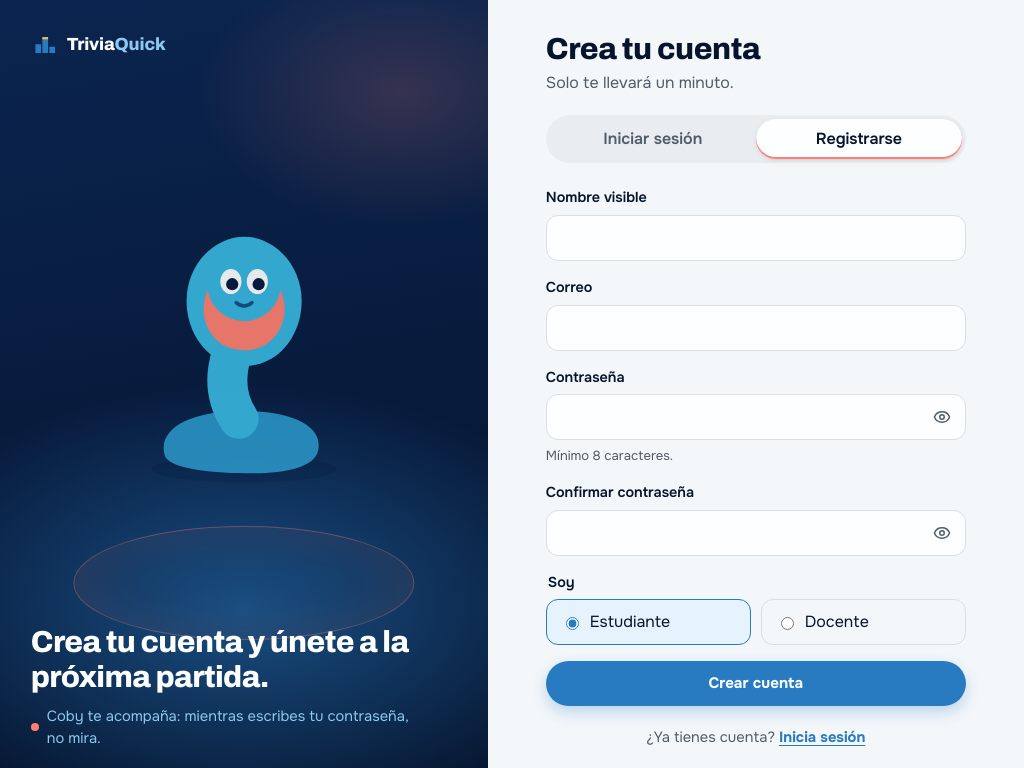
it: Registro con Coby › tiene una pose propia y celebra al terminar
This screenshot has width=1024, height=768.
Type "Ana" into the field labelled "Nombre visible" at (756, 238), box [546,215,966,261]
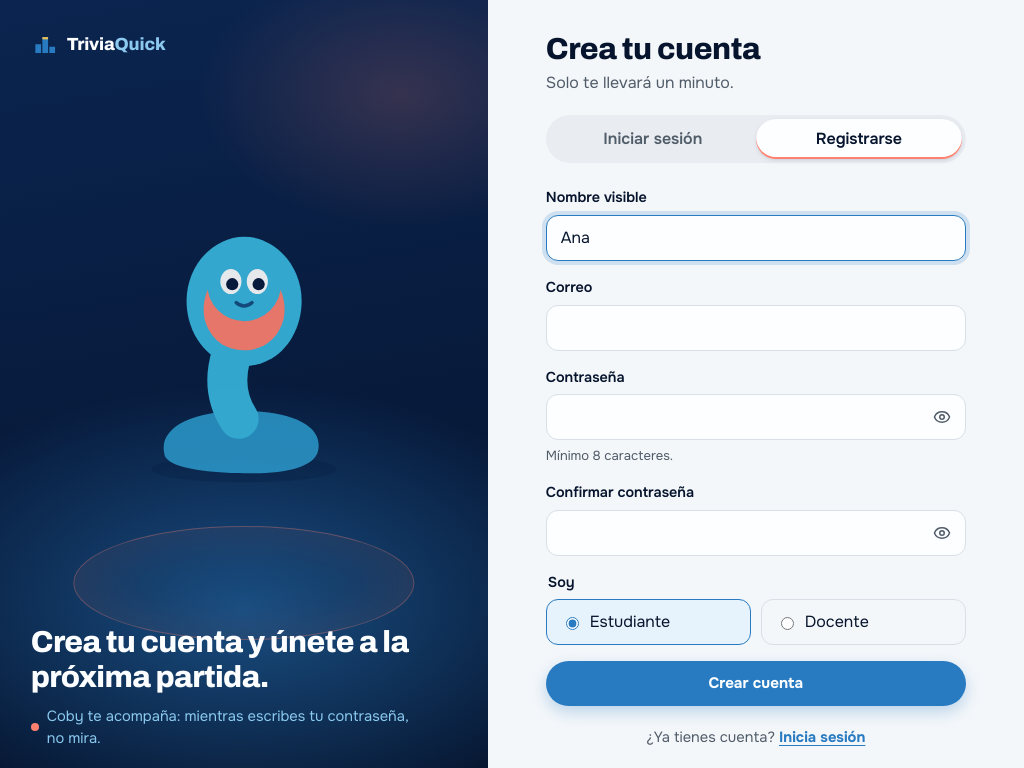
Type "a@b.com" into the field labelled "Correo" at (756, 328), box [546,305,966,351]
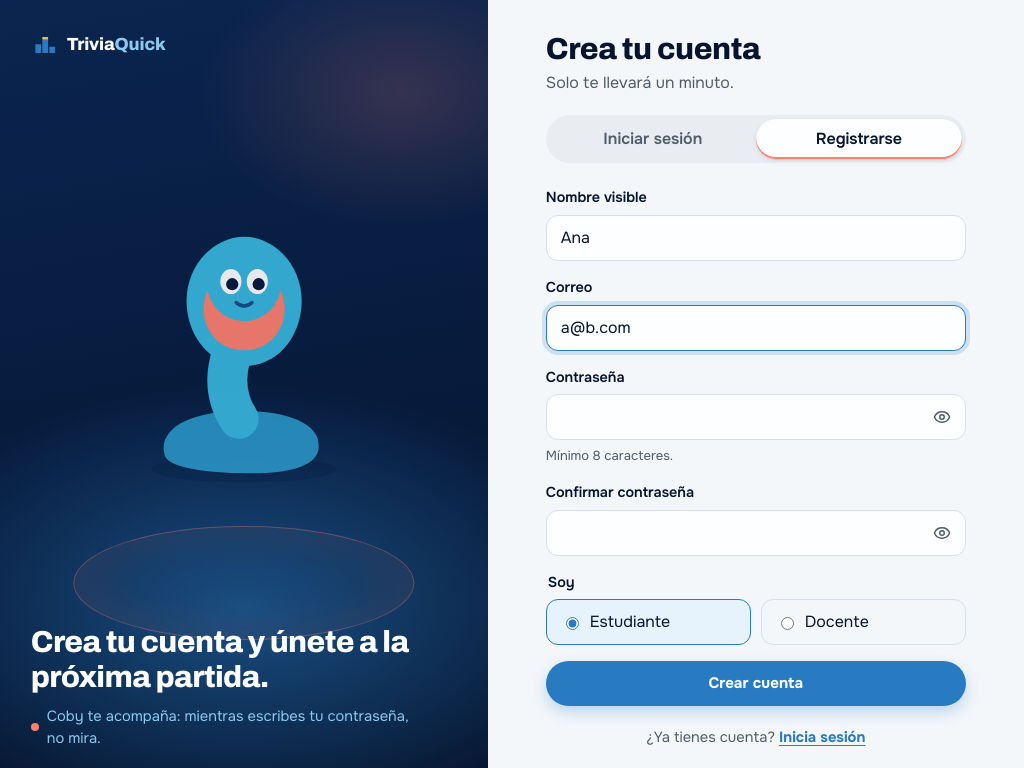
Type "contrasena1" into the password field labelled "Contraseña" at (756, 417), box [546,394,966,440]
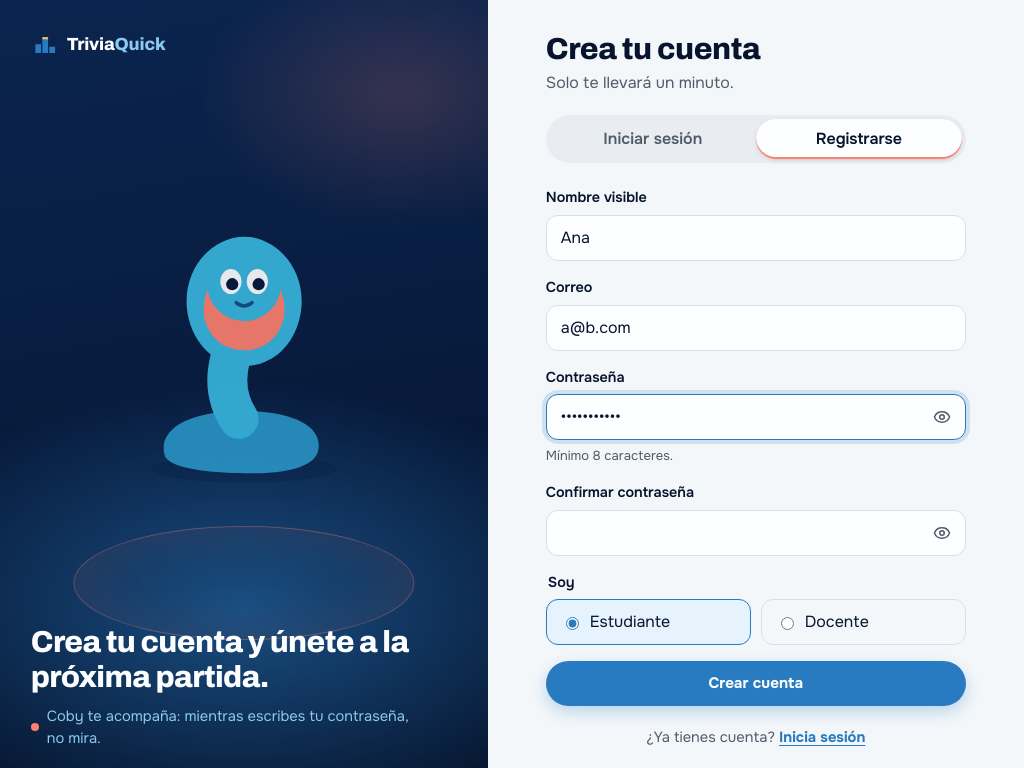
Type "contrasena1" into the password field labelled "Confirmar contraseña" at (756, 533), box [546,510,966,556]
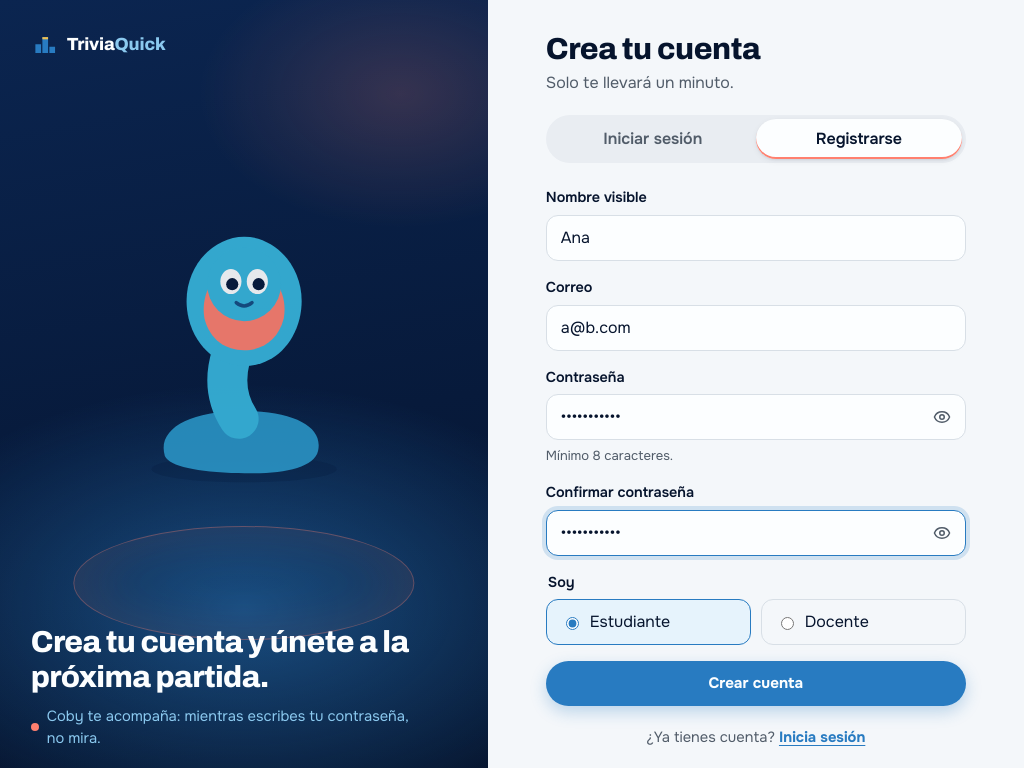
Click the button "Crear cuenta" at (756, 684), box [546,661,966,706]
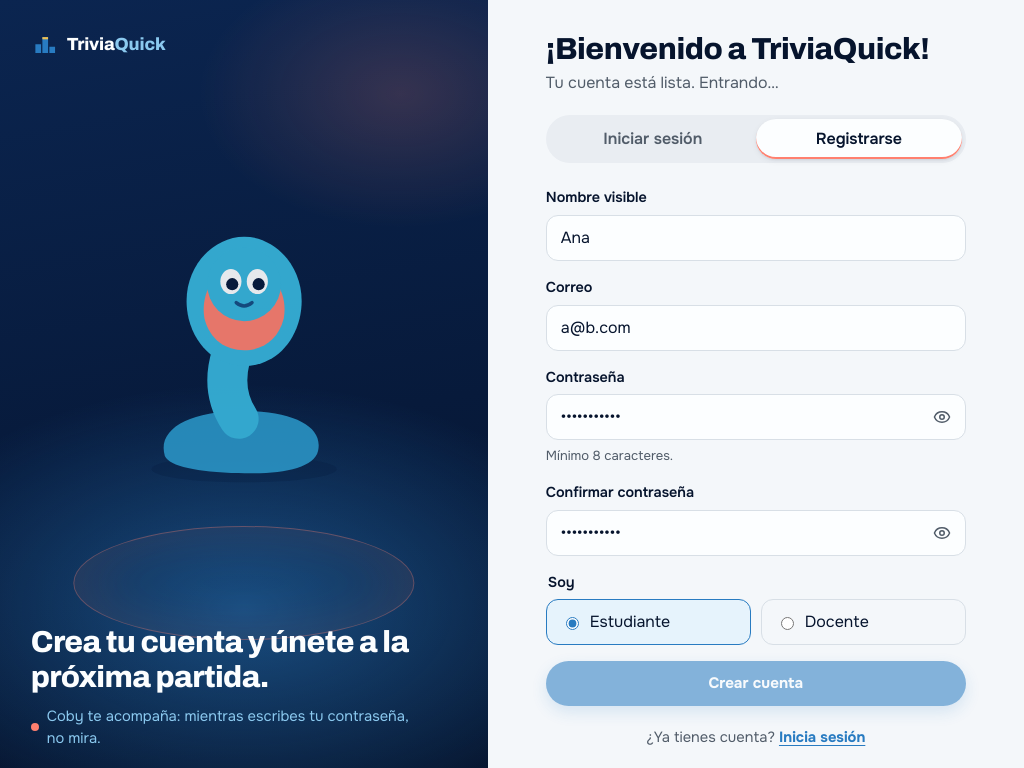
Now the heading "¡Bienvenido a TriviaQuick!" is shown, box [546,32,966,65]
